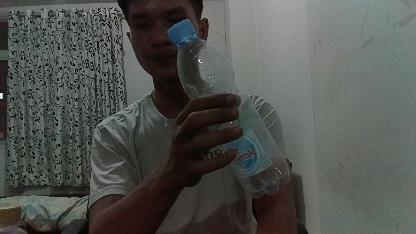Plastic Bottle: (161, 19, 291, 195)
